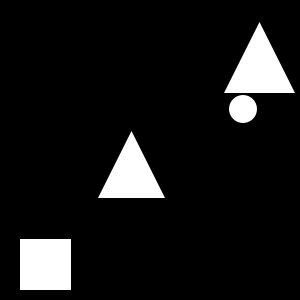circle: (20, 239, 71, 290)
rectangle: (229, 95, 257, 123)
triangle: (224, 22, 295, 93), (98, 131, 165, 198)
